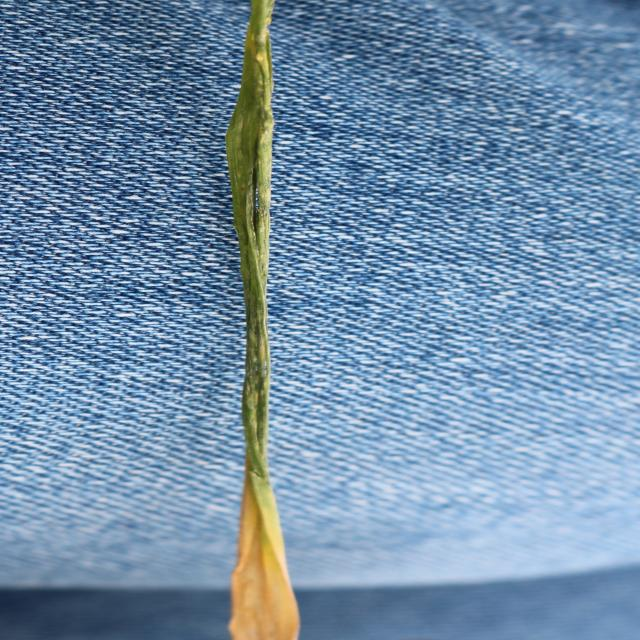Septoria: (224, 1, 300, 639)
